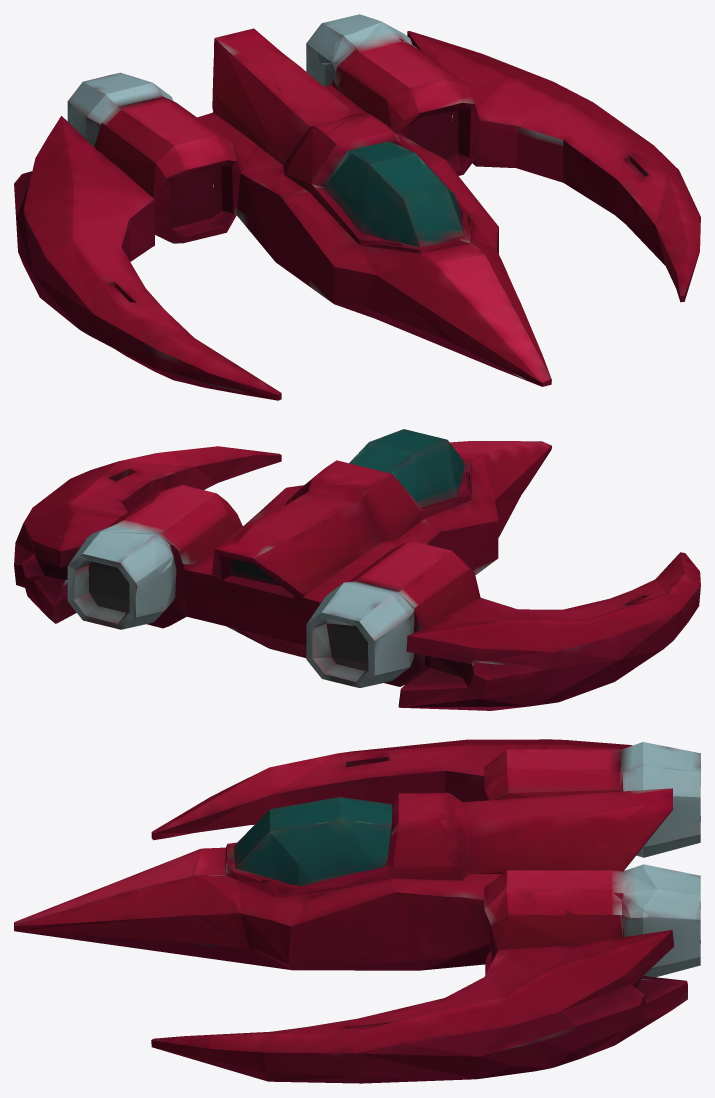
The picture shows the model from 3 angles, top to bottom: view 1: azimuth 30°, elevation 25°; view 2: azimuth 150°, elevation 25°; view 3: azimuth 270°, elevation 25°; orthographic projection. The views are drawn at different scales.
Parts seen in each view (by area): view 1: world; view 2: world; view 3: world.
Part boxes in pixels (bbox=[...]): world: bbox=[14, 14, 700, 400]; world: bbox=[14, 429, 700, 710]; world: bbox=[14, 739, 700, 1083].
Size of the model in its own units: 1 by 0.2342 by 0.962.
Materials: 1 (1 with a texture image).
